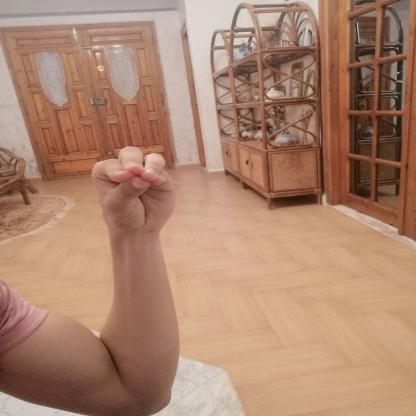HA: (79, 137, 190, 250)
